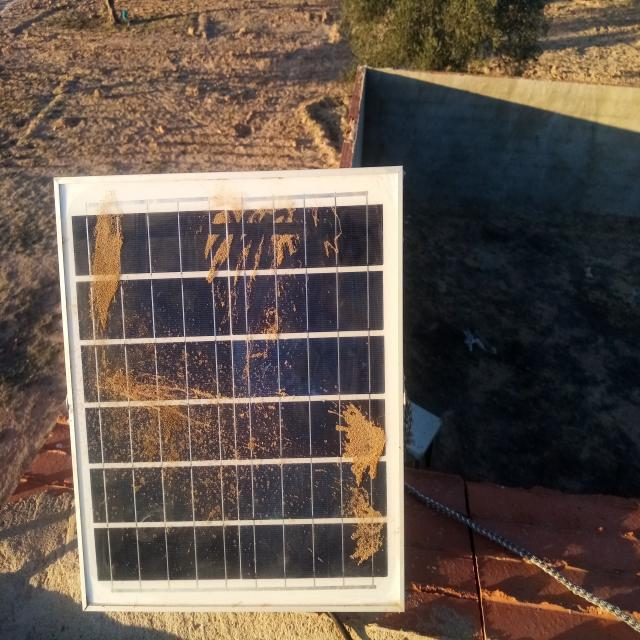faulty: (58, 172, 403, 613)
